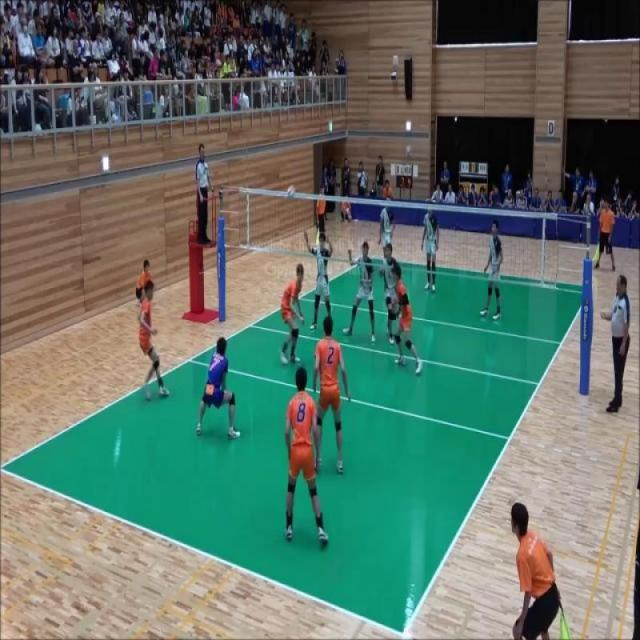volleyball: (288, 184, 296, 200), (346, 207, 350, 215)
